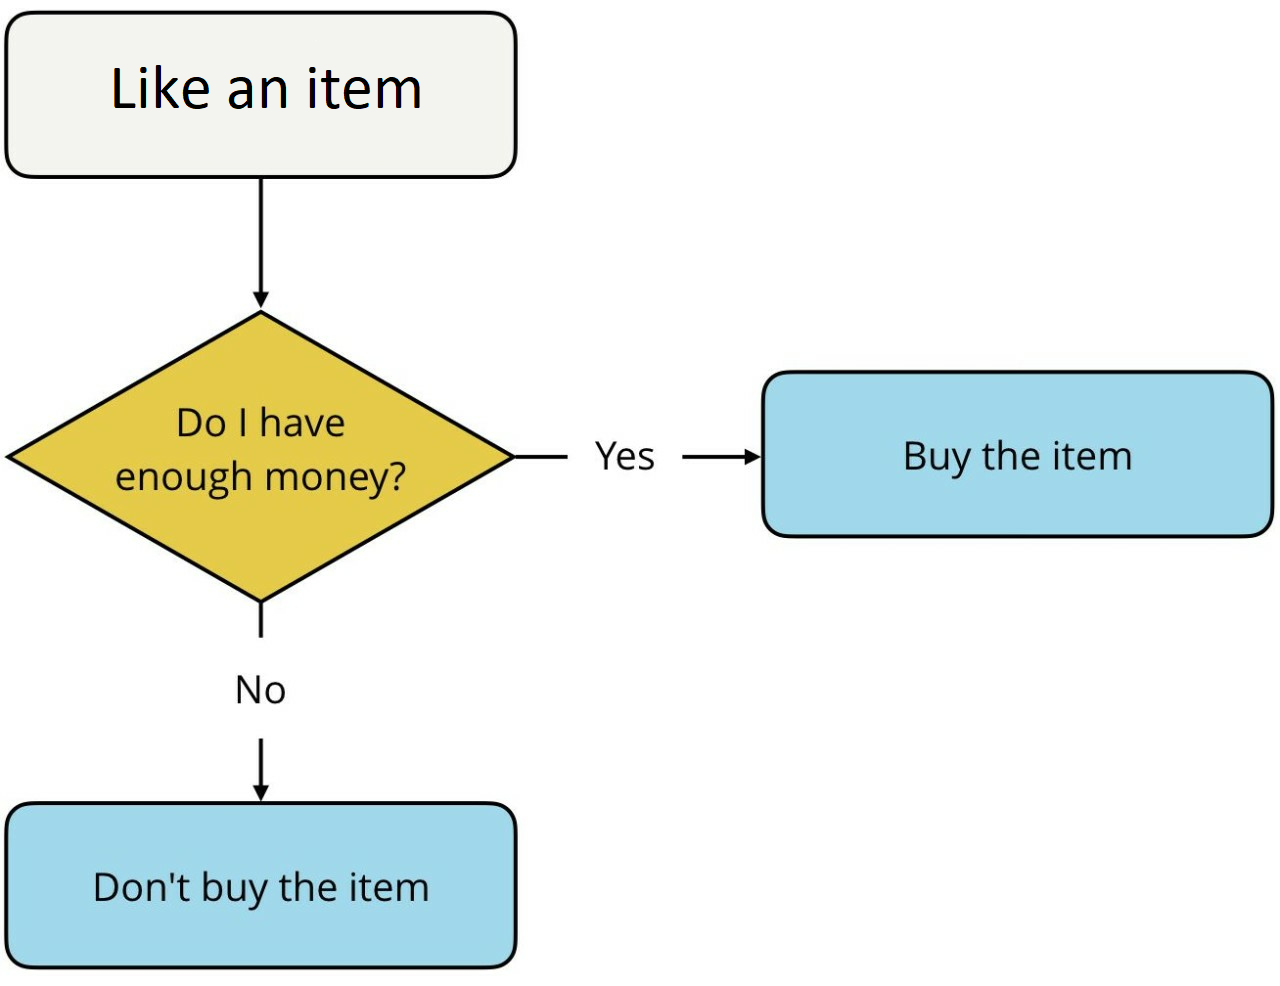arrow: (249, 605, 272, 799), (518, 450, 763, 468), (249, 177, 270, 310)
decision: (4, 308, 516, 602)
process: (758, 365, 1279, 543), (1, 8, 522, 182), (1, 798, 504, 974)
text: (115, 402, 410, 502), (110, 62, 421, 117), (89, 867, 431, 910), (903, 437, 1136, 482), (591, 437, 658, 474), (236, 670, 287, 705)
